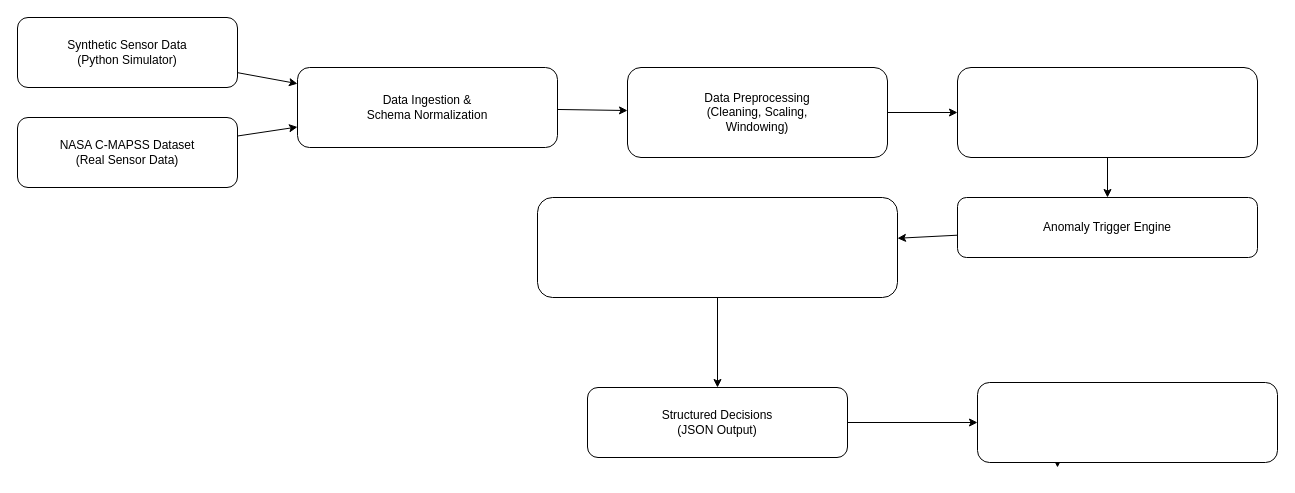
Some shapes in this 1295 by 493 pixel diagram are drawn without their labels. Here are the shapes that lost their labels. From the top down, the box of each, then its label:
(956, 66, 1258, 158): ML Anomaly Detection (Isolation Forest / Autoencoder)
(536, 196, 898, 298): LangChain Agentic AI (Root Cause + Optimization)
(976, 382, 1278, 462): Dashboard / Chat UI (Streamlit)
